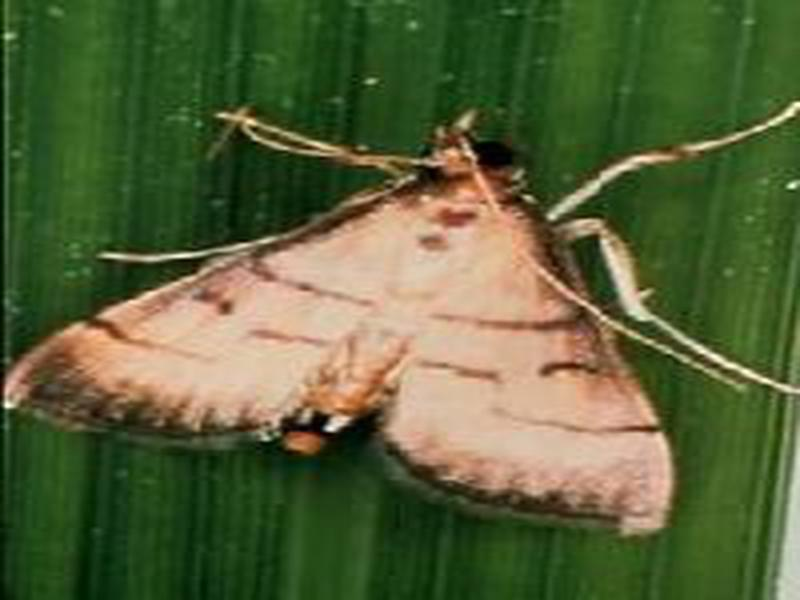Leaf_folder: (20, 120, 687, 543)
